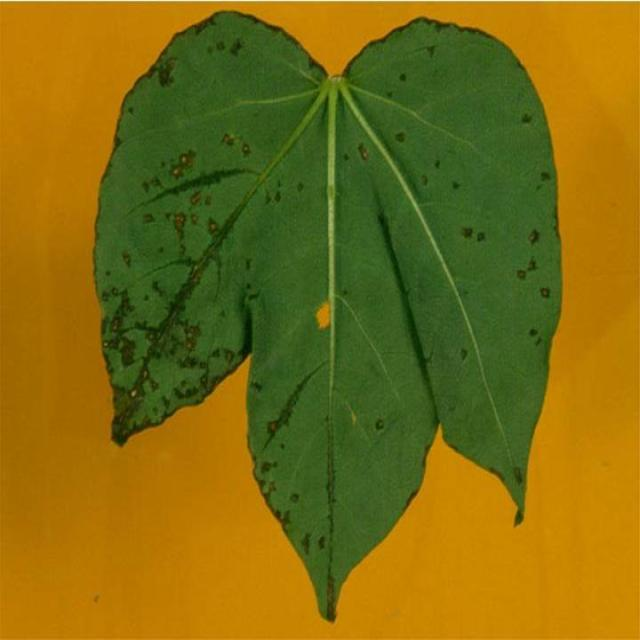Bacterial Blight: (103, 165, 248, 424)
